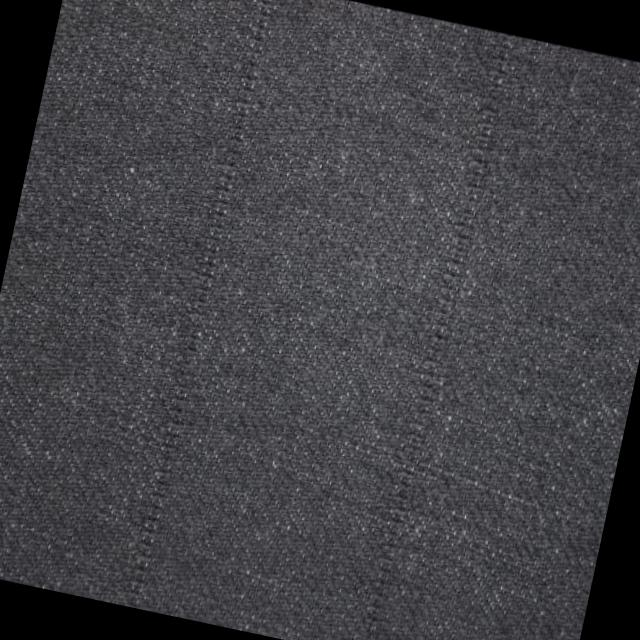Warp_Weft: (114, 0, 288, 612), (352, 28, 522, 640)
